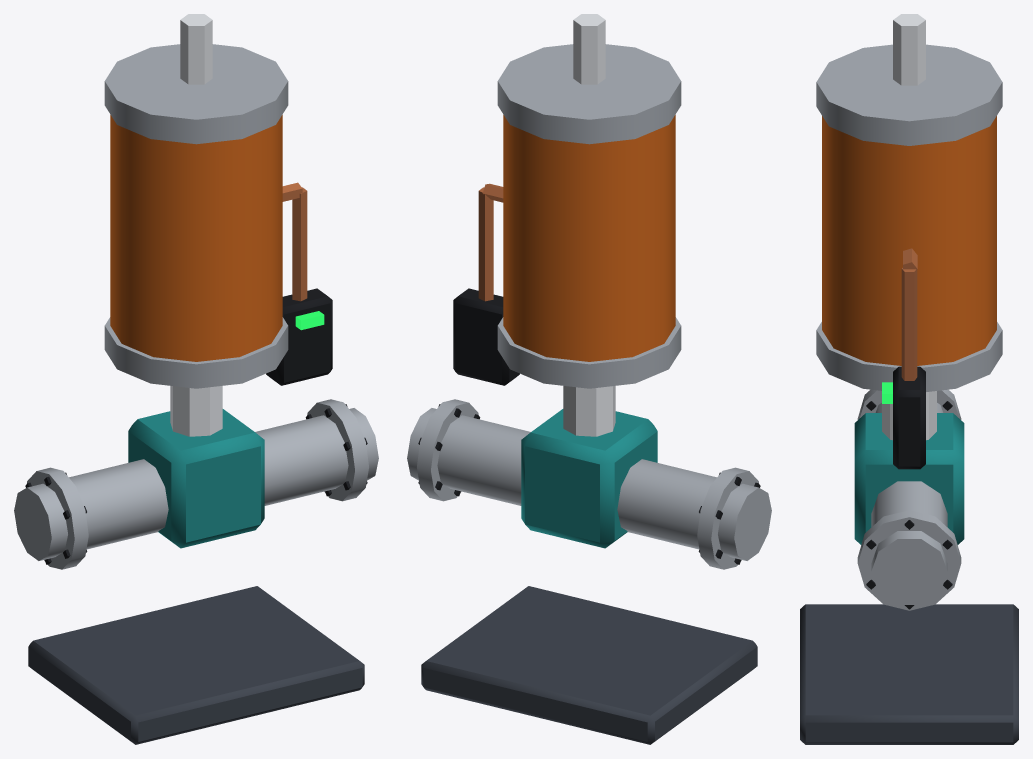
The model's file is valve_pneumatic_actuator_valve.glb.
3 renders of one model, left to right at view 1: azimuth 30°, elevation 25°; view 2: azimuth 150°, elevation 25°; view 3: azimuth 270°, elevation 25°, orthographic.
Visible parts, largest first — view 1: valve_pneumatic_actuator_valve; view 2: valve_pneumatic_actuator_valve; view 3: valve_pneumatic_actuator_valve.
Boxes of the visible parts, box(x1,y1,x2,y2) form: valve_pneumatic_actuator_valve: box(14, 14, 378, 744); valve_pneumatic_actuator_valve: box(407, 14, 771, 744); valve_pneumatic_actuator_valve: box(800, 14, 1018, 744).
Bounding box in the file's own units: 0.7 × 1.35 × 0.4.
